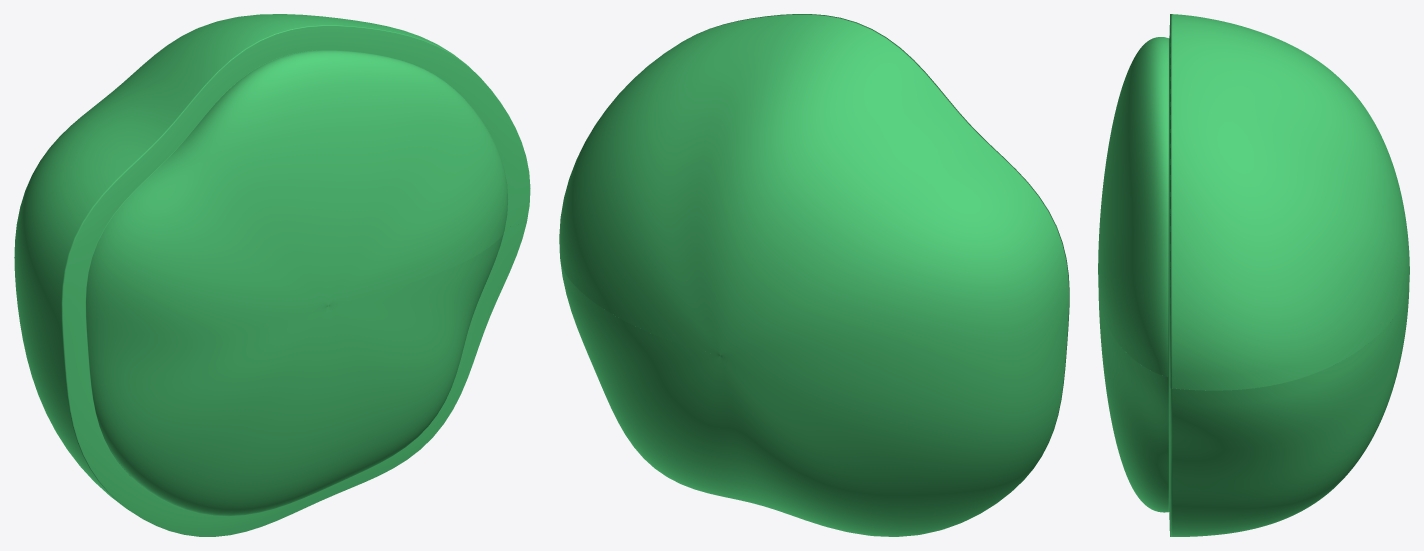
The model's file is iceberg_system_ar_universal.glb.
3 views of the same model, side by side, from view 1: azimuth 30°, elevation 25°; view 2: azimuth 150°, elevation 25°; view 3: azimuth 270°, elevation 25° (orthographic).
Parts seen in each view (by area): view 1: iceberg_system_ar; view 2: iceberg_system_ar; view 3: iceberg_system_ar.
Part boxes in pixels (x1,y1,x2,y2): iceberg_system_ar: (14, 14, 530, 536); iceberg_system_ar: (559, 14, 1069, 536); iceberg_system_ar: (1098, 14, 1409, 536).
Size of the model in its own units: 1 by 0.9854 by 0.5732.
